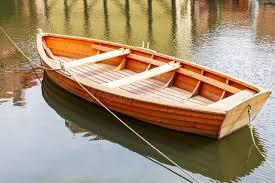fishing boat: (35, 22, 272, 140)
